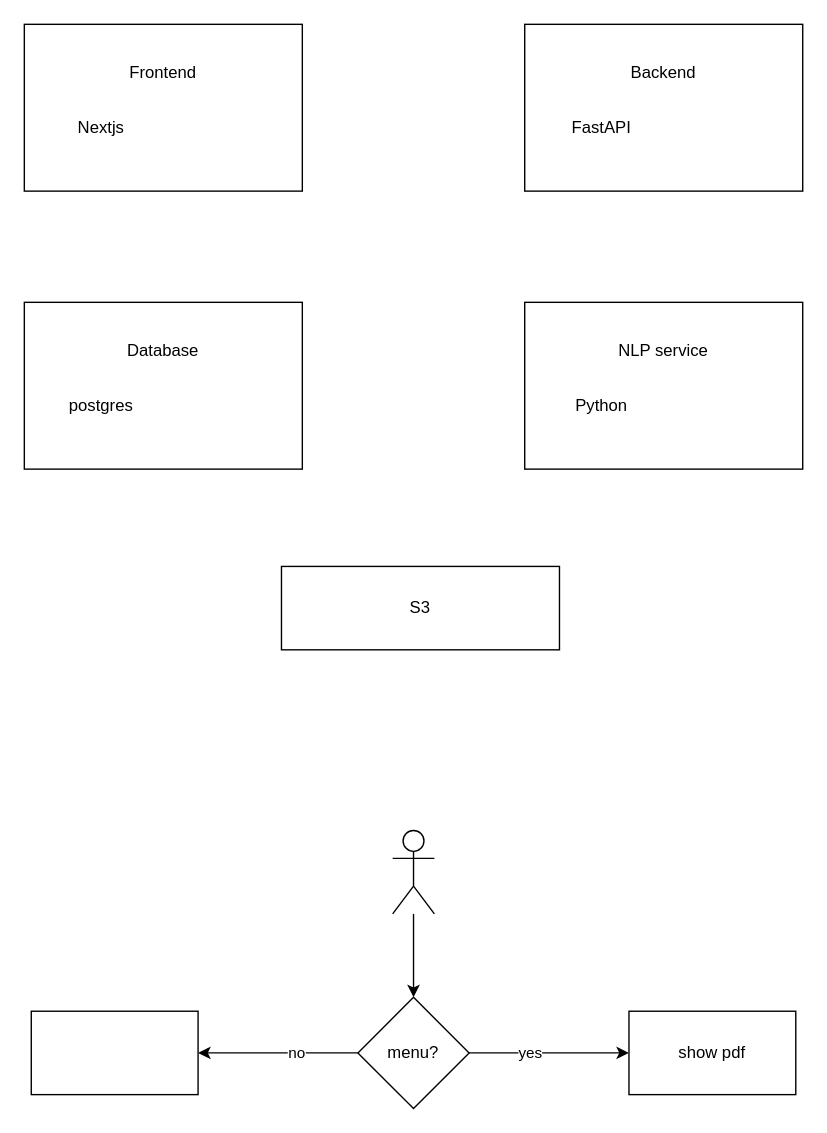
This 827x1133 diagram has some shape labels left out. The centre of each missing label's shape, as x and y in pixels:
Actor: the point at 412,871
show chat screen: the point at 114,1052
